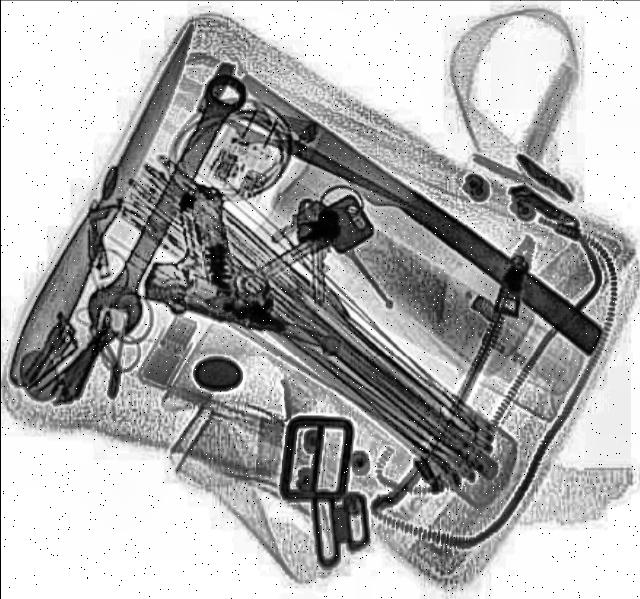Gun: (134, 182, 378, 354)
Knife: (222, 71, 610, 365), (0, 23, 212, 381), (193, 92, 417, 221)
Wrench: (76, 69, 258, 340)
